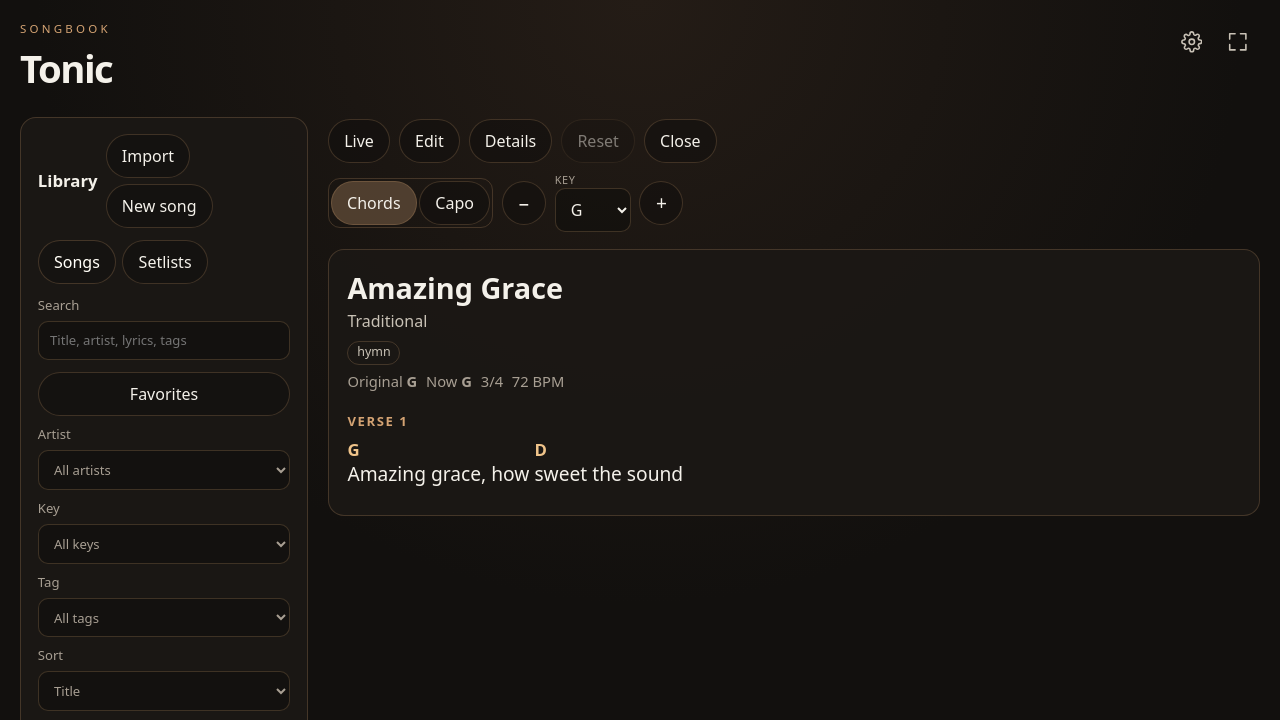
Scenario: App › locks live controls while hotkeys still work
The width and height of the screenshot is (1280, 720).
Click the button "Live".
click(359, 141)  # box left=328, top=119, right=390, bottom=163
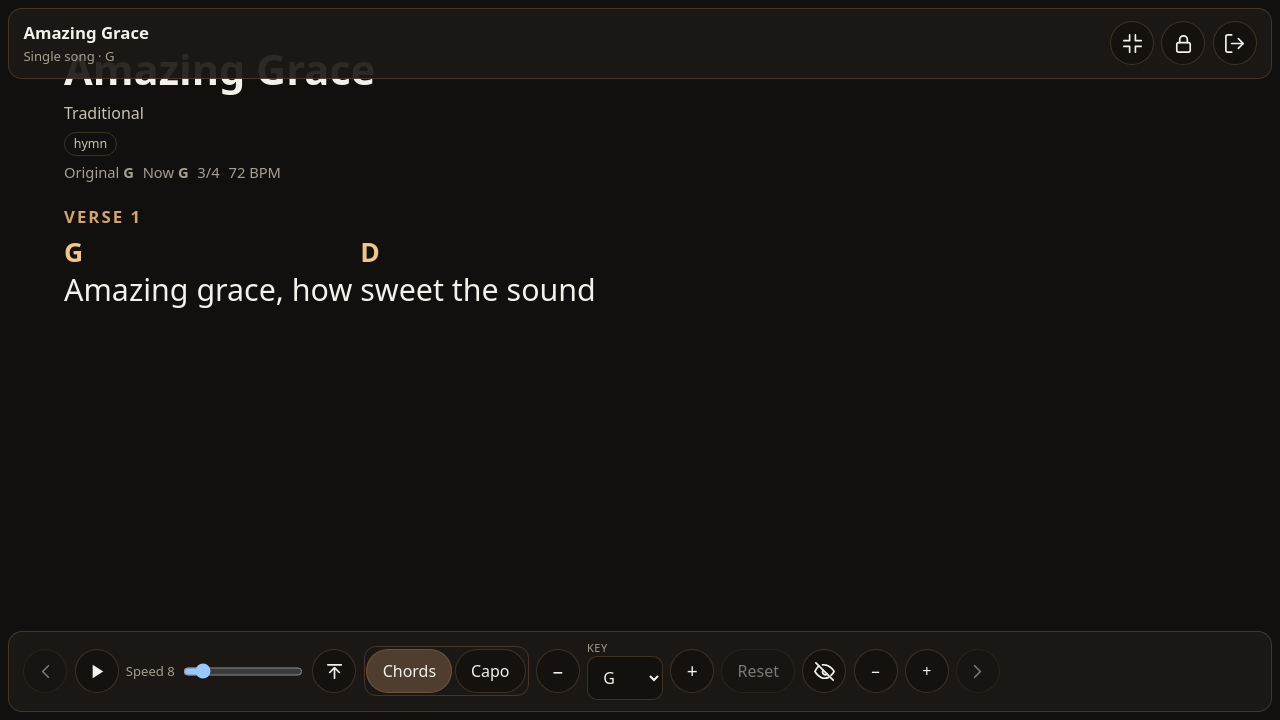
Click the button named "Lock controls".
click(1183, 43)  # box left=1161, top=21, right=1205, bottom=65
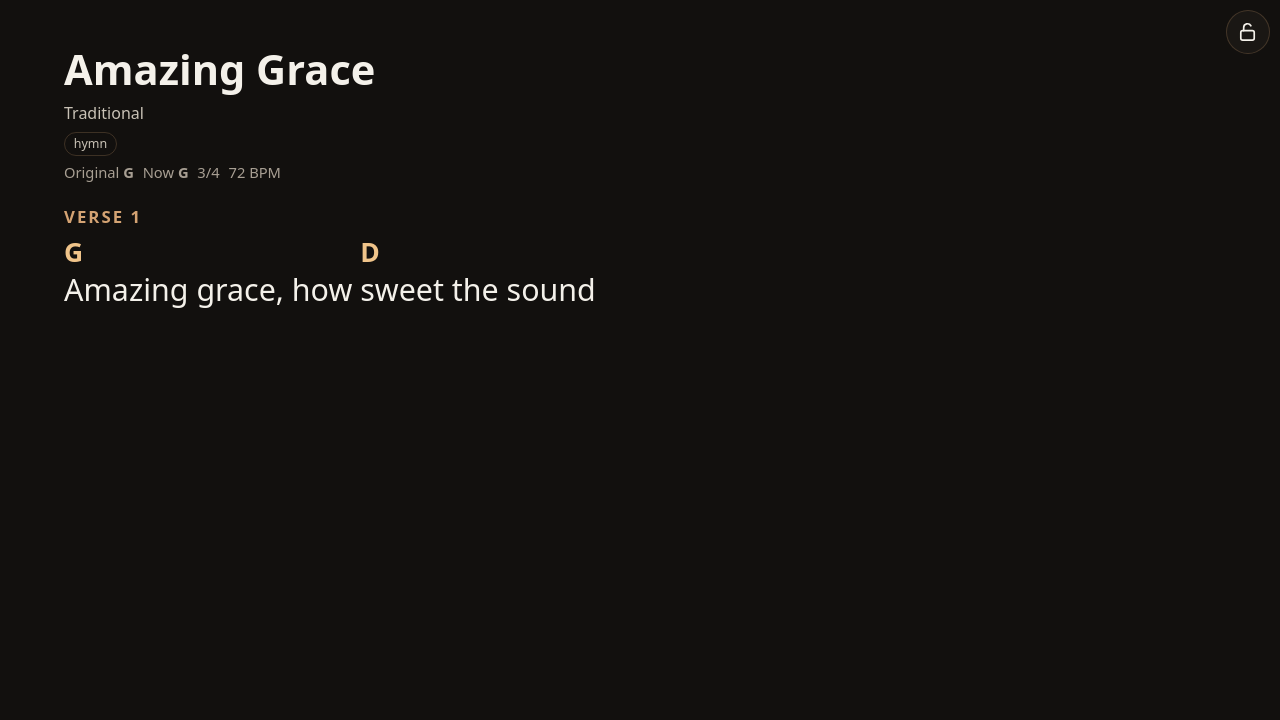
Expected: the button named "Unlock controls" is shown, left=1226, top=10, right=1270, bottom=54
Press l
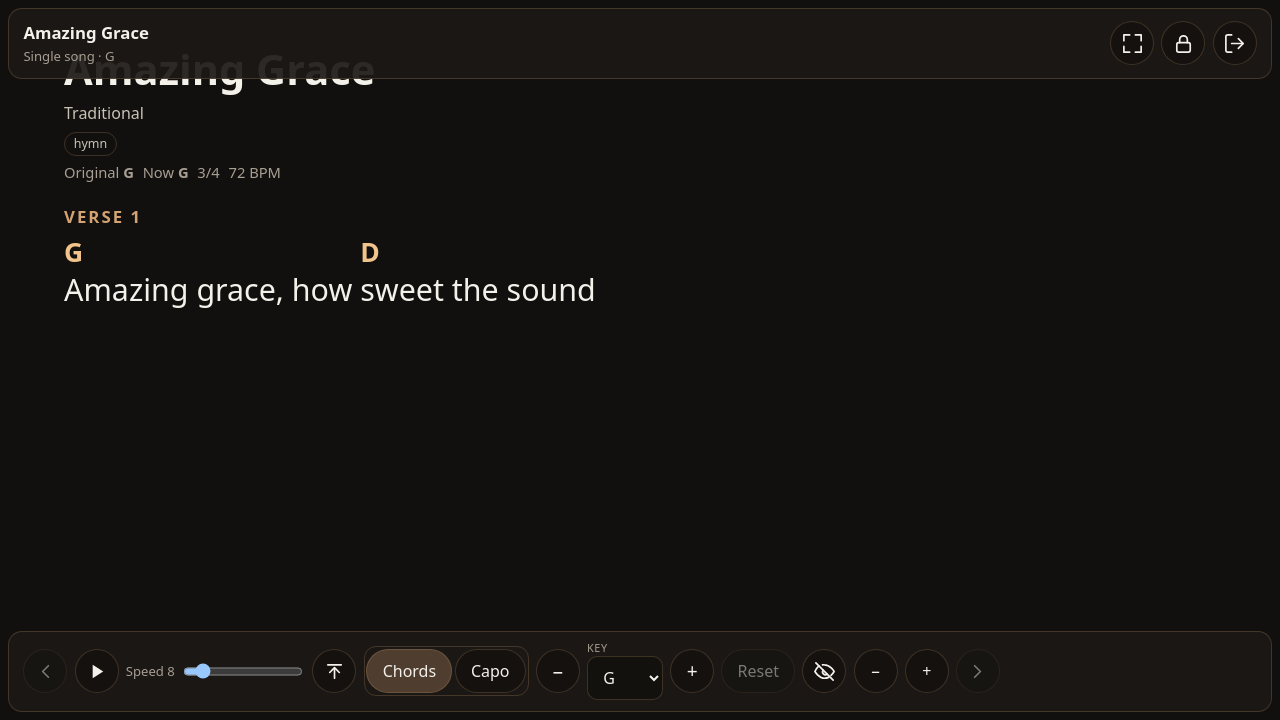
Expected: the button named "Exit live" is shown, left=1213, top=21, right=1257, bottom=65
